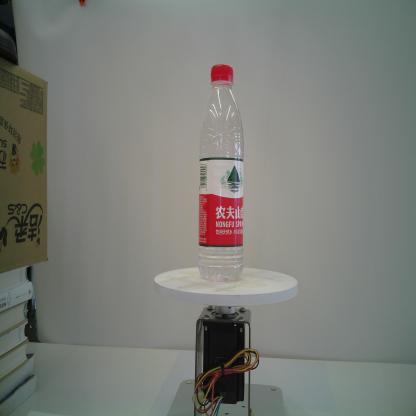Drink: (197, 62, 245, 282)
